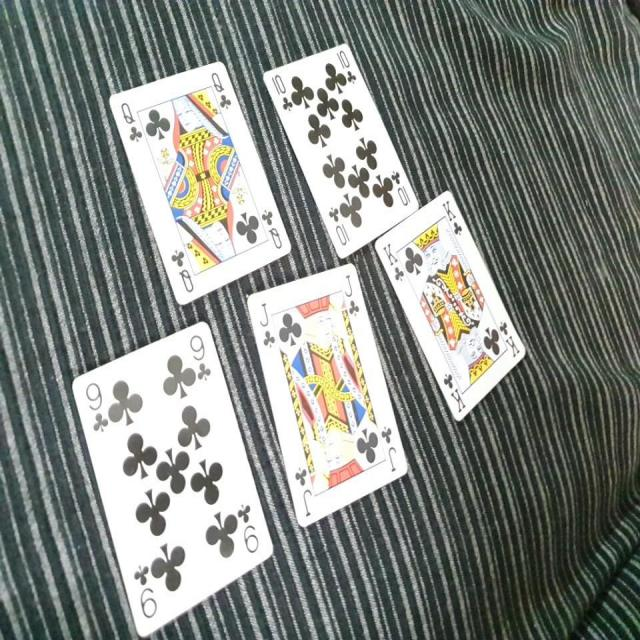10 Trefoils: (260, 44, 421, 260)
9 Trefoils: (70, 319, 276, 640)
J Trefoils: (244, 260, 408, 530)
K Trefoils: (375, 192, 530, 421)
Q Trefoils: (107, 61, 292, 306)
